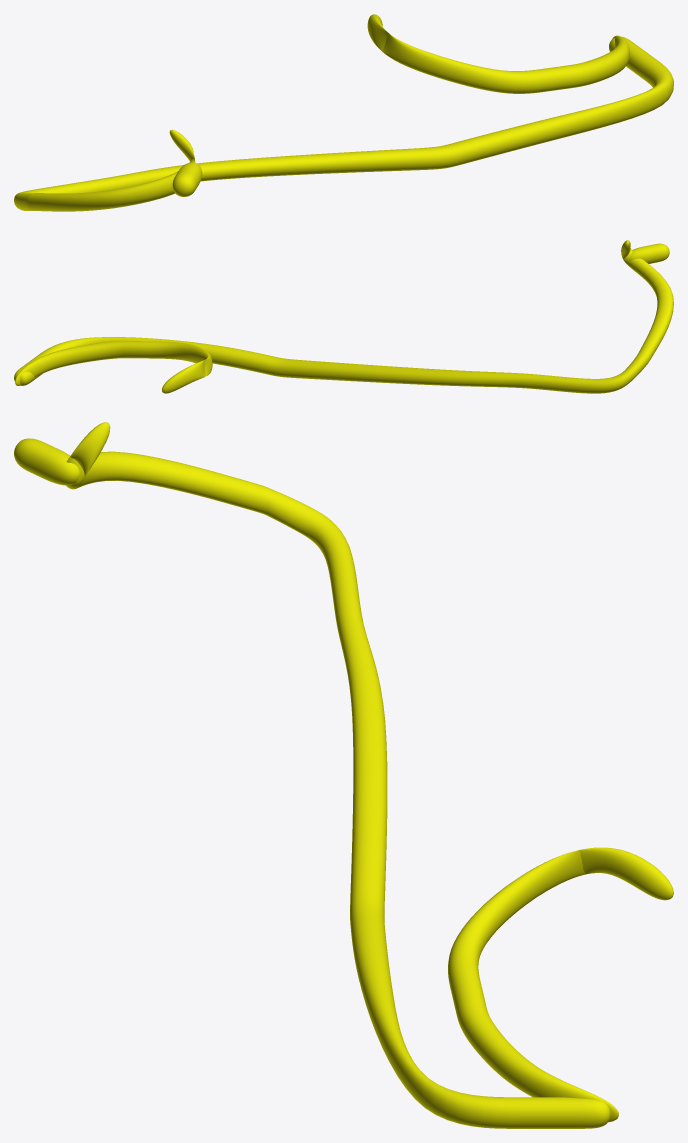
File: conducto deferente der.fbx
The picture shows the model from 3 angles, top to bottom: view 1: azimuth 30°, elevation 25°; view 2: azimuth 150°, elevation 25°; view 3: azimuth 270°, elevation 25°; orthographic projection. The views are drawn at different scales.
Parts seen in each view (by area): view 1: Cube_002; view 2: Cube_002; view 3: Cube_002.
Boxes of the visible parts, <box> form: Cube_002: <box>14,14,673,211</box>; Cube_002: <box>14,240,673,393</box>; Cube_002: <box>14,422,673,1128</box>.
Size of the model in its own units: 27.5 by 7.75 by 16.01.
